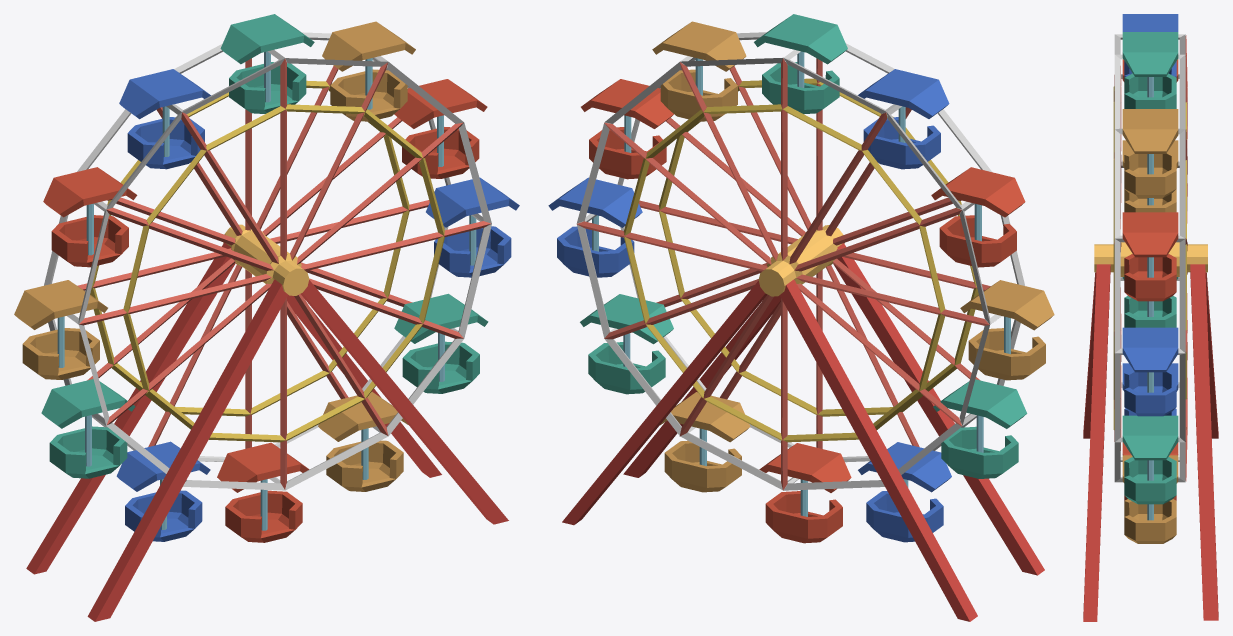
Rendered from ferris-wheel.glb.
3 views of the same model, side by side, from view 1: azimuth 30°, elevation 25°; view 2: azimuth 150°, elevation 25°; view 3: azimuth 270°, elevation 25° (orthographic). The views are drawn at different scales.
Parts seen in each view (by area): view 1: Object_9, Object_7, Object_5, Object_2, Object_4, Object_3, Object_10, Object_11, Object_6, Object_8; view 2: Object_9, Object_7, Object_2, Object_4, Object_5, Object_3, Object_10, Object_11, Object_6, Object_8; view 3: Object_7, Object_2, Object_4, Object_10, Object_3, Object_5, Object_8, Object_9, Object_11, Object_6.
Boxes of the visible parts, x1,y1,x2,y2 form: Object_9: [77, 58, 490, 489]; Object_7: [26, 242, 508, 621]; Object_5: [43, 79, 487, 542]; Object_2: [41, 14, 488, 478]; Object_4: [14, 21, 415, 491]; Object_3: [116, 69, 519, 541]; Object_10: [44, 32, 491, 490]; Object_11: [90, 80, 444, 442]; Object_6: [57, 51, 476, 530]; Object_8: [223, 224, 309, 295]; Object_9: [577, 58, 990, 490]; Object_7: [562, 243, 1044, 621]; Object_2: [580, 14, 1027, 478]; Object_4: [652, 21, 1054, 492]; Object_5: [581, 79, 1025, 543]; Object_3: [548, 69, 951, 542]; Object_10: [576, 32, 1024, 490]; Object_11: [624, 78, 978, 442]; Object_6: [592, 51, 1010, 516]; Object_8: [758, 225, 844, 296]; Object_7: [1083, 264, 1218, 621]; Object_2: [1122, 32, 1178, 504]; Object_4: [1122, 109, 1178, 543]; Object_10: [1114, 34, 1185, 482]; Object_3: [1122, 14, 1178, 416]; Object_5: [1122, 59, 1178, 500]; Object_8: [1094, 242, 1207, 276]; Object_9: [1114, 35, 1187, 481]; Object_11: [1113, 86, 1186, 430]; Object_6: [1147, 77, 1153, 520].
Bounding box in the file's own units: 15.72 × 15.82 × 4.
